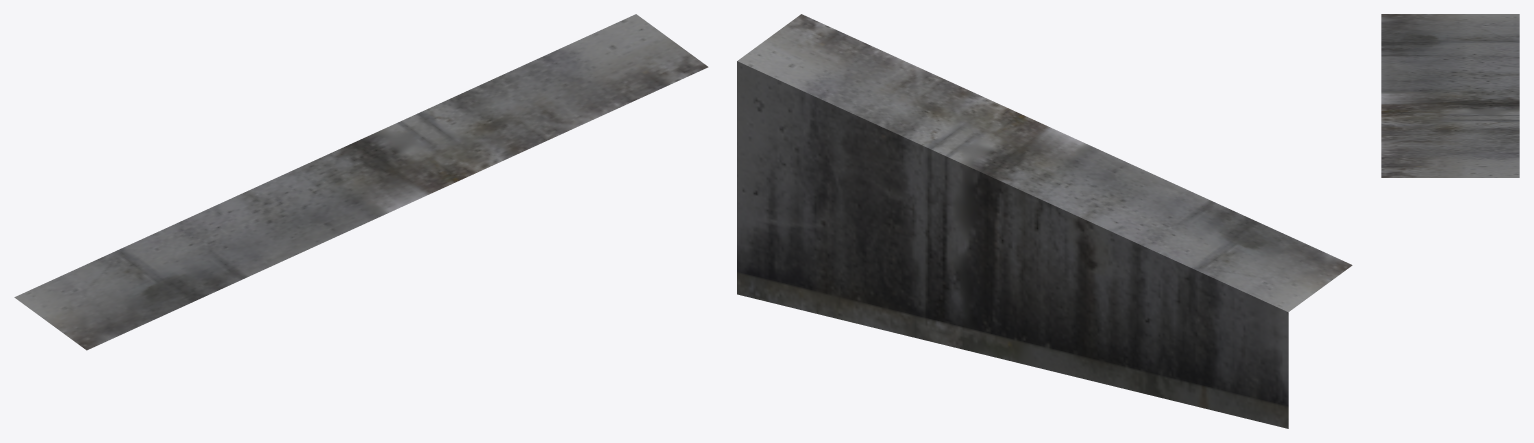
File: tunel_lodni_zed_1.glb
3 views of the same model, side by side, from view 1: azimuth 30°, elevation 25°; view 2: azimuth 150°, elevation 25°; view 3: azimuth 270°, elevation 25° (orthographic). The views are drawn at different scales.
Visible parts, largest first — view 1: tunel_lodni_zed_1; view 2: tunel_lodni_zed_1; view 3: tunel_lodni_zed_1.
Boxes of the visible parts, bbox=[...] form: tunel_lodni_zed_1: bbox=[14, 14, 708, 350]; tunel_lodni_zed_1: bbox=[737, 14, 1352, 428]; tunel_lodni_zed_1: bbox=[1381, 14, 1519, 177].
Bounding box in the file's own units: 4.95 × 2 × 1.
1 material, 1 textured.
